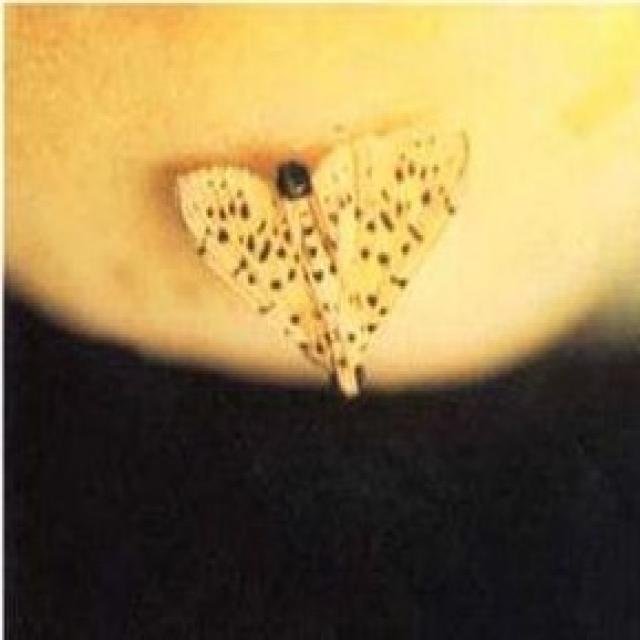peach borer: (158, 116, 477, 413)
